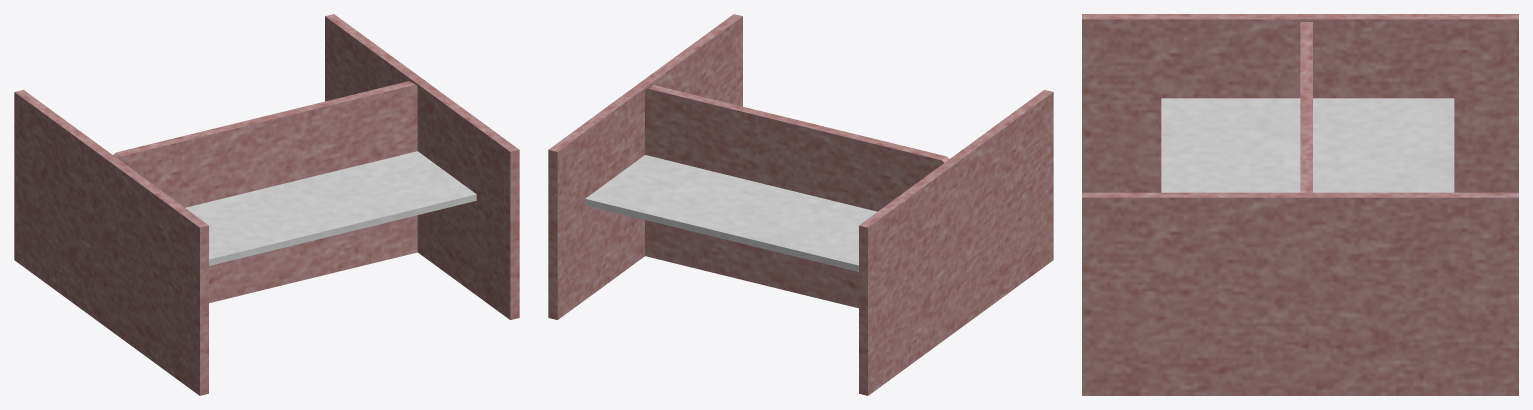
Rendered from divider_full_h_red_desk.obj.
The picture shows the model from 3 angles, left to right: view 1: azimuth 30°, elevation 25°; view 2: azimuth 150°, elevation 25°; view 3: azimuth 270°, elevation 25°; orthographic projection. The views are drawn at different scales.
Visible parts, largest first — view 1: divider_full_h_red_desk; view 2: divider_full_h_red_desk; view 3: divider_full_h_red_desk.
Boxes of the visible parts, left/top/right/bottom form: divider_full_h_red_desk: left=14, top=14, right=519, bottom=395; divider_full_h_red_desk: left=548, top=14, right=1053, bottom=395; divider_full_h_red_desk: left=1082, top=14, right=1518, bottom=395.
Bounding box in the file's own units: 2.99 × 1.5 × 3.
